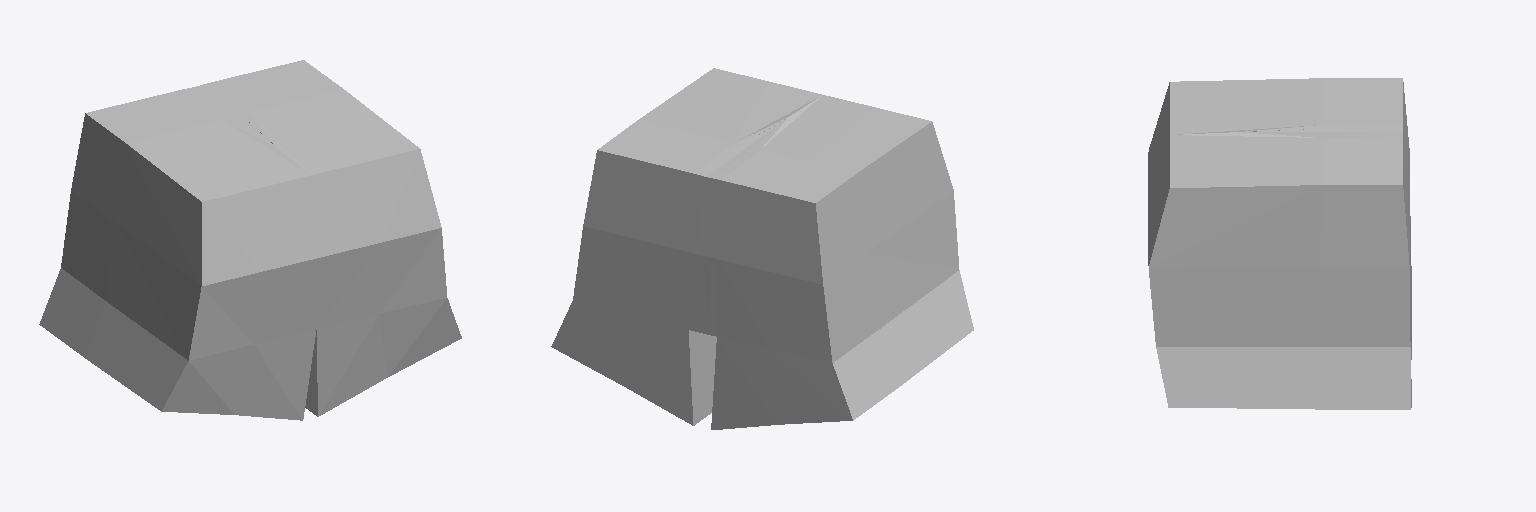
Rendered from shorts.obj.
The picture shows the model from 3 angles: view 1: azimuth 30°, elevation 25°; view 2: azimuth 150°, elevation 25°; view 3: azimuth 270°, elevation 25°; orthographic projection.
Parts seen in each view (by area): view 1: shorrst; view 2: shorrst; view 3: shorrst.
Boxes of the visible parts, x1=… form: shorrst: x1=39, y1=60, x2=461, y2=420; shorrst: x1=551, y1=68, x2=973, y2=429; shorrst: x1=1148, y1=78, x2=1411, y2=409.
Bounding box in the file's own units: 13.13 × 10.32 × 9.89.